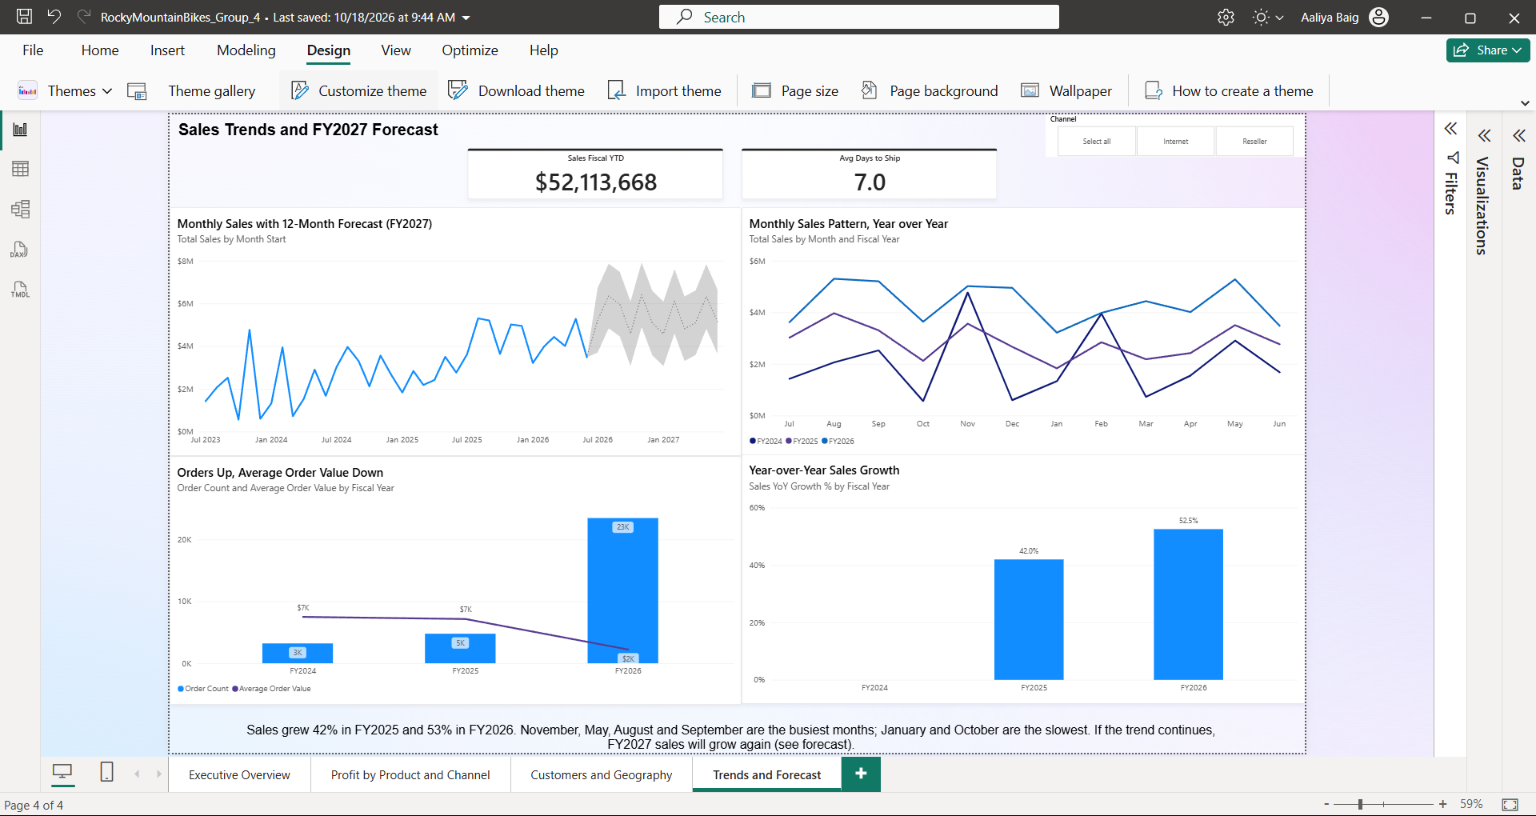

What the dashboard file says about the page in this screenshot:
{"tool":"powerbi","page":{"name":"Trends and Forecast","canvas":[1920,1080],"ordinal":3},"visuals":[{"type":"textbox","box":[0,12.7,503.1,45.2],"z":0},{"type":"lineChart","title":"Monthly Sales with 12-Month Forecast (FY2027)","fields":{"Category":["Dates.Month Start"],"Y":["_Measures.Total Sales"]},"box":[0,156.4,967.4,419.9],"z":1000},{"type":"lineChart","title":"Monthly Sales Pattern, Year over Year","fields":{"Category":["Dates.Month"],"Series":["Dates.Fiscal Year"],"Y":["_Measures.Total Sales"]},"box":[967.4,156.4,953,422],"z":2000},{"type":"lineClusteredColumnComboChart","title":"Orders Up, Average Order Value Down","fields":{"Category":["Dates.Fiscal Year"],"Y":["_Measures.Order Count"],"Y2":["_Measures.Average Order Value"]},"box":[0,578.4,967.4,419.9],"z":3000},{"type":"clusteredColumnChart","title":"Year-over-Year Sales Growth","fields":{"Category":["Dates.Fiscal Year"],"Y":["_Measures.Sales YoY Growth %"]},"box":[967.4,574.3,953,422],"z":4000},{"type":"cardVisual","fields":{"Data":["_Measures.Sales Fiscal YTD"]},"box":[503.1,57.3,432.6,86.1],"z":5000},{"type":"slicer","fields":{"Values":["Sales.Channel"]},"box":[1481.6,0,438.4,72.1],"z":6000},{"type":"cardVisual","fields":{"Data":["_Measures.Avg Days to Ship"]},"box":[967.4,57.3,432.6,86.1],"z":7000},{"type":"textbox","box":[104.8,1011.3,1689.1,68.4],"z":8000}]}

Visuals, with their boxes on the page's 1920x1080 design canvas (x1, y1, x2, y2). These are canvas units, not pixel positions in the 1536x816 screenshot, which may show the page scaled, cropped or inside an application window:
textbox: 0 13 503 58
"Monthly Sales with 12-Month Forecast (FY2027)" lineChart: 0 156 967 576
"Monthly Sales Pattern, Year over Year" lineChart: 967 156 1920 578
"Orders Up, Average Order Value Down" lineClusteredColumnComboChart: 0 578 967 998
"Year-over-Year Sales Growth" clusteredColumnChart: 967 574 1920 996
cardVisual - _Measures.Sales Fiscal YTD: 503 57 936 143
slicer - Sales.Channel: 1482 0 1920 72
cardVisual - _Measures.Avg Days to Ship: 967 57 1400 143
textbox: 105 1011 1794 1080
